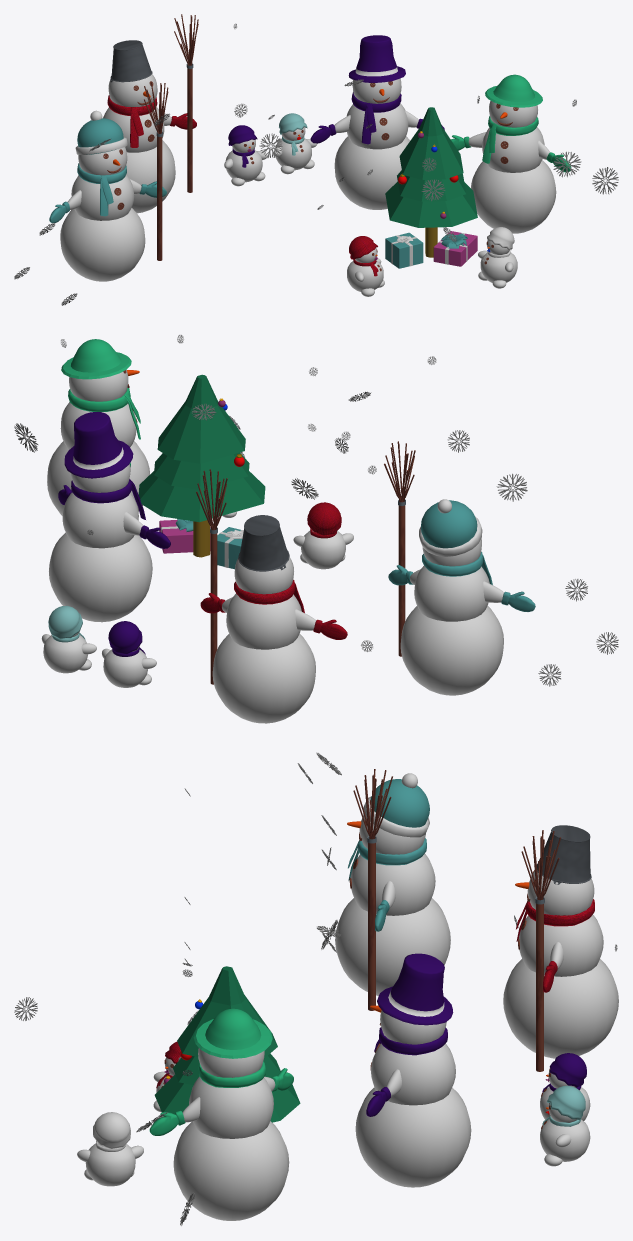
Rendered from Snowmans Happy Family.fbx.
The picture shows the model from 3 angles, top to bottom: view 1: azimuth 30°, elevation 25°; view 2: azimuth 150°, elevation 25°; view 3: azimuth 270°, elevation 25°; orthographic projection. The views are drawn at different scales.
Parts seen in each view (by area): view 1: pasted__pCylinder6, pasted__pasted__bottom, pasted__pasted__pasted__pasted__bottom, pasted__pasted__pasted__bottom, body (×3), pasted__bottom, purple_hat, pasted__pasted__pasted__pasted__middle, pasted__pasted__pasted__middle, pasted__pasted__middle, pasted__polySurface68, pasted__bucket (+19 smaller); view 2: pasted__pCylinder6, pasted__pasted__bottom, pasted__bottom, pasted__pasted__pasted__bottom, pasted__pasted__middle, pasted__middle, purple_hat, pasted__pasted__pasted__middle, pasted__polySurface68, body (×2), pasted__bucket, pasted__pSphere61 (+18 smaller); view 3: pasted__pasted__pasted__pasted__bottom, pasted__pasted__pasted__bottom, pasted__bottom, pasted__pasted__bottom, pasted__pCylinder6, pasted__pasted__pasted__pasted__middle, purple_hat, pasted__pasted__pasted__middle, pasted__pasted__middle, pasted__middle, body (×2), pasted__pSphere61 (+15 smaller).
Part boxes in pixels (<box>): pasted__pCylinder6: <box>385,107,477,257</box>; pasted__pasted__bottom: <box>60,208,145,281</box>; pasted__pasted__pasted__pasted__bottom: <box>471,160,556,233</box>; pasted__pasted__pasted__bottom: <box>334,136,409,209</box>; body (×3): <box>275,138,517,291</box>; pasted__bottom: <box>126,140,175,213</box>; purple_hat: <box>348,35,405,82</box>; pasted__pasted__pasted__pasted__middle: <box>482,127,544,172</box>; pasted__pasted__pasted__middle: <box>346,103,408,149</box>; pasted__pasted__middle: <box>71,175,134,220</box>; pasted__polySurface68: <box>75,110,127,154</box>; pasted__bucket: <box>110,40,152,82</box>; pasted__pCylinder6: <box>138,374,265,557</box>; pasted__pasted__bottom: <box>400,606,503,695</box>; pasted__bottom: <box>212,634,315,723</box>; pasted__pasted__pasted__bottom: <box>49,532,152,622</box>; pasted__pasted__middle: <box>414,566,489,621</box>; pasted__middle: <box>226,593,301,649</box>; purple_hat: <box>64,412,133,478</box>; pasted__pasted__pasted__middle: <box>62,492,138,548</box>; pasted__polySurface68: <box>419,499,482,556</box>; body (×2): <box>43,530,345,673</box>; pasted__bucket: <box>238,515,289,571</box>; pasted__pSphere61: <box>61,339,131,379</box>; pasted__pasted__pasted__pasted__bottom: <box>173,1121,289,1220</box>; pasted__pasted__pasted__bottom: <box>355,1087,471,1187</box>; pasted__bottom: <box>503,959,618,1058</box>; pasted__pasted__bottom: <box>335,898,450,995</box>; pasted__pCylinder6: <box>154,966,300,1122</box>; pasted__pasted__pasted__pasted__middle: <box>189,1077,273,1138</box>; purple_hat: <box>377,953,453,1025</box>; pasted__pasted__pasted__middle: <box>371,1043,455,1105</box>; pasted__pasted__middle: <box>350,853,435,915</box>; pasted__middle: <box>519,914,603,976</box>; body (×2): <box>85,1119,590,1186</box>; pasted__pSphere61: <box>193,1008,272,1058</box>.
Size of the model in its own units: 33.65 by 11.63 by 23.69.
